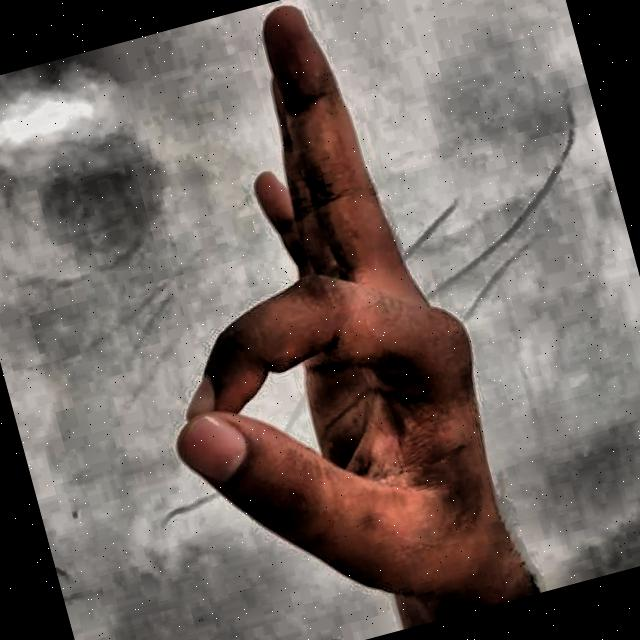Ca: (28, 0, 585, 640)
